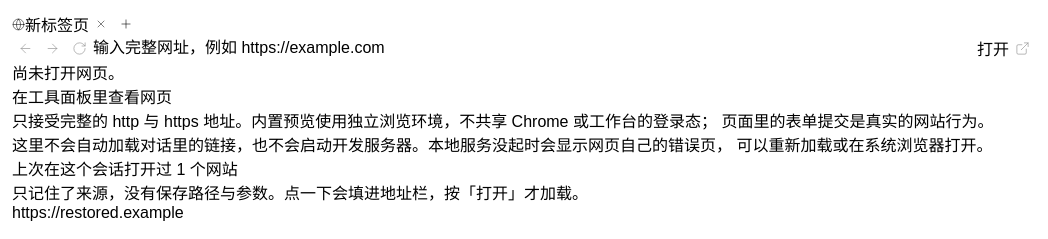
Test: 内置网页预览面板 › 恢复提示只给来源，点击只填地址栏，加载仍需用户确认
Click the button with test id "preview-restore-https://restored.example": (98, 213) [12,204,184,222]
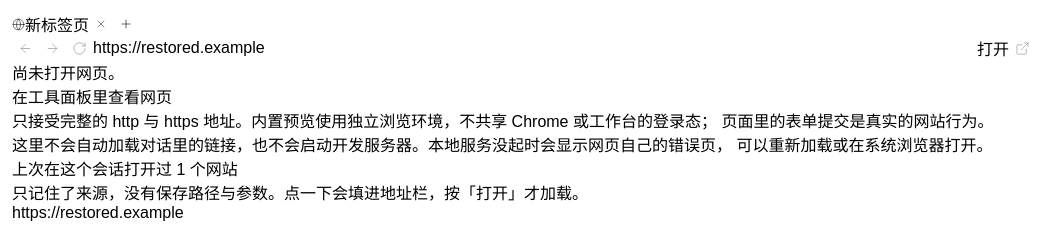
Check: the field with test id "preview-address" holds "https://restored.example", box [93,39,977,57]
